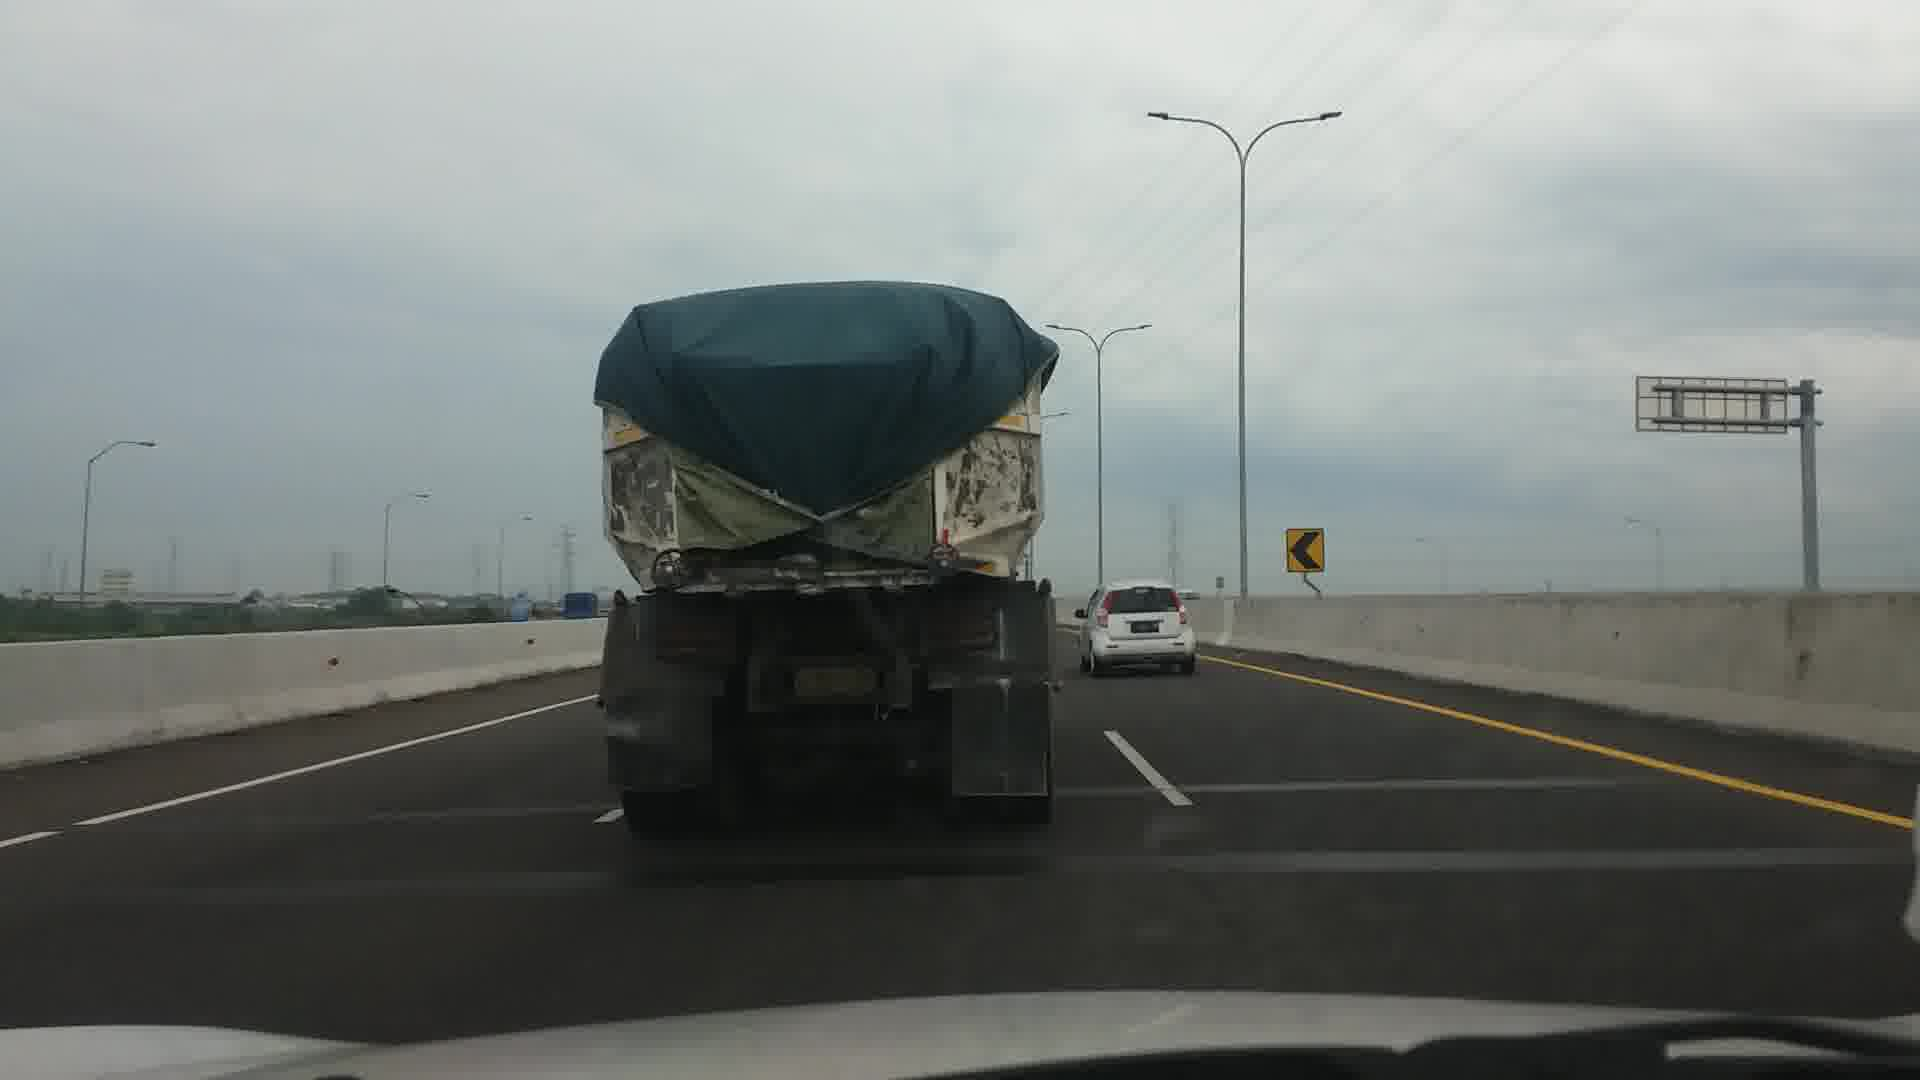plate_positive: (794, 665, 876, 696), (1130, 621, 1160, 633)
